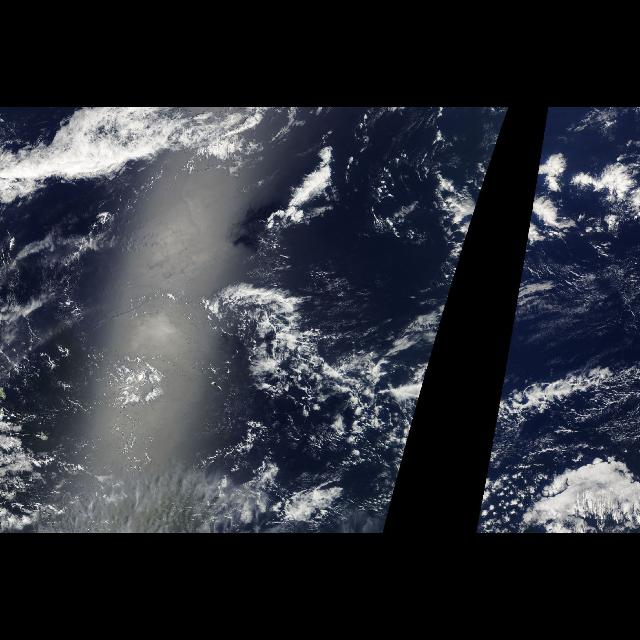Fish: (8, 114, 420, 470)
Flower: (541, 142, 639, 255)
